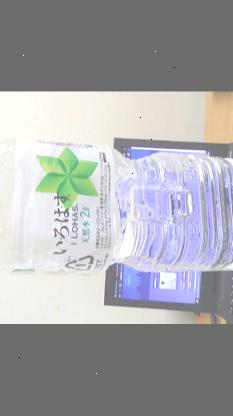Plastic Bottle: (0, 138, 233, 275)
